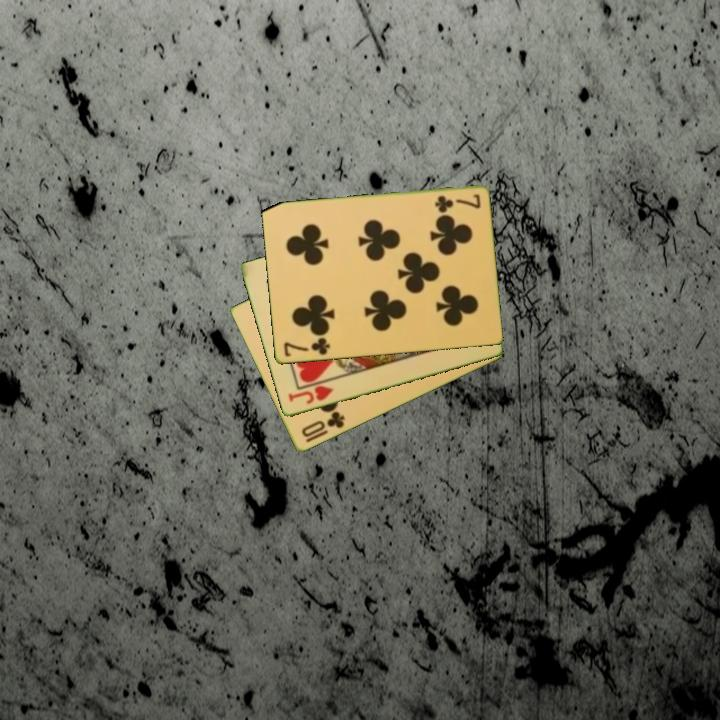10c: (298, 408, 348, 440)
7c: (280, 334, 332, 360), (431, 191, 483, 214)
Jh: (284, 382, 336, 407)
